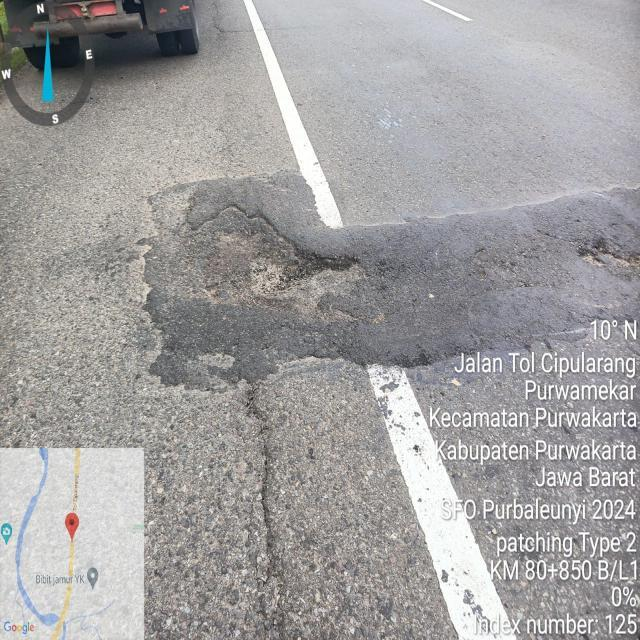Buraco: (174, 200, 374, 330), (574, 235, 640, 284)
